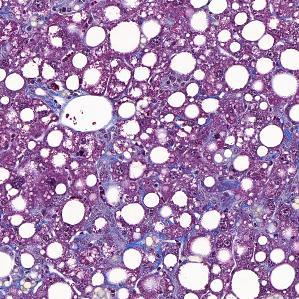fibrosis: (193, 175, 293, 226)
